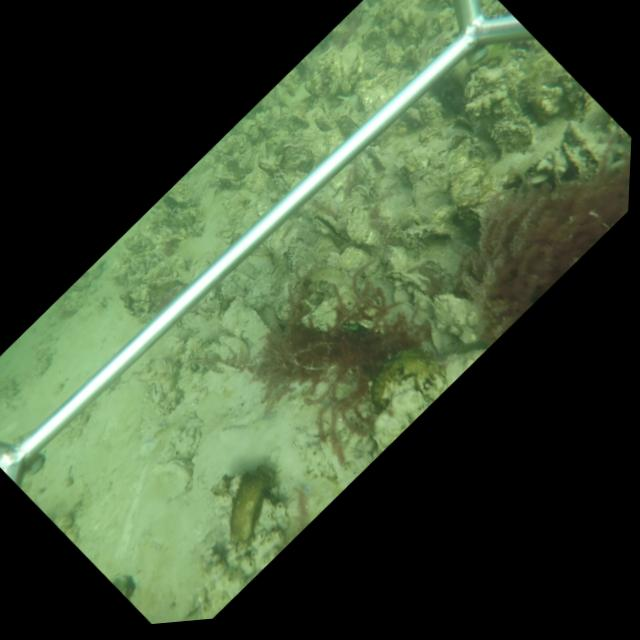Oyster-Closed: (216, 292, 271, 350), (152, 456, 195, 502), (408, 166, 452, 207), (345, 202, 382, 247), (171, 412, 204, 457), (383, 268, 431, 293), (425, 317, 445, 356), (363, 145, 387, 168)
Oyster-Indeterminate: (431, 292, 482, 344), (490, 115, 537, 153), (218, 335, 250, 362)
Oyster-Open: (312, 211, 347, 240)
